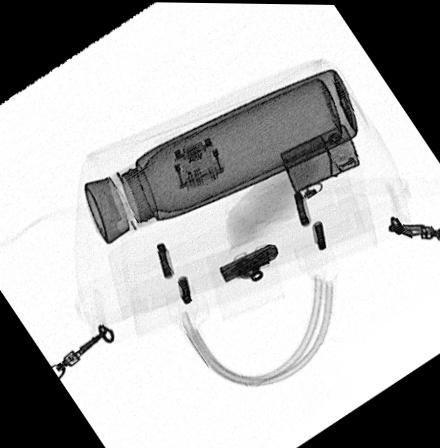Lighter: (278, 121, 359, 191)
